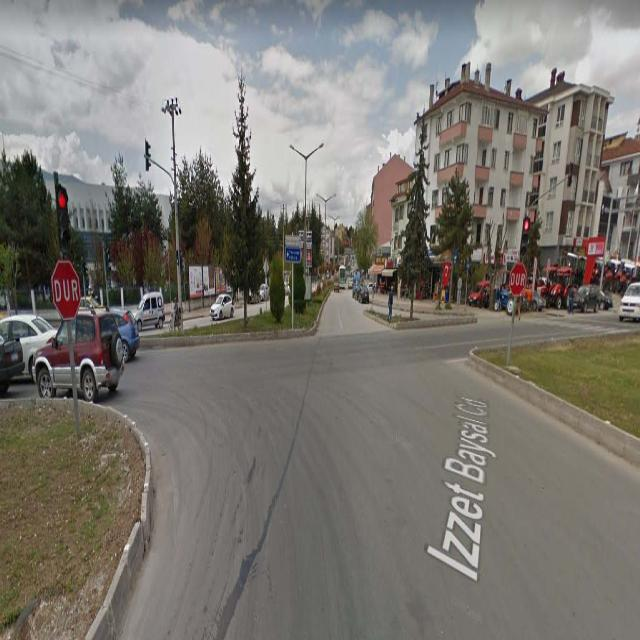dur: (51, 257, 80, 320), (509, 260, 527, 298)
kirmizi: (58, 184, 70, 257), (522, 213, 529, 258)
